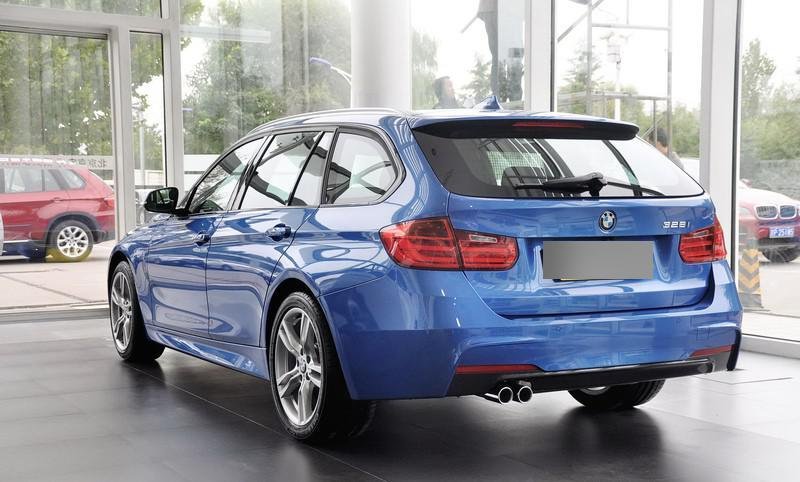Wagon: (106, 94, 744, 441)
